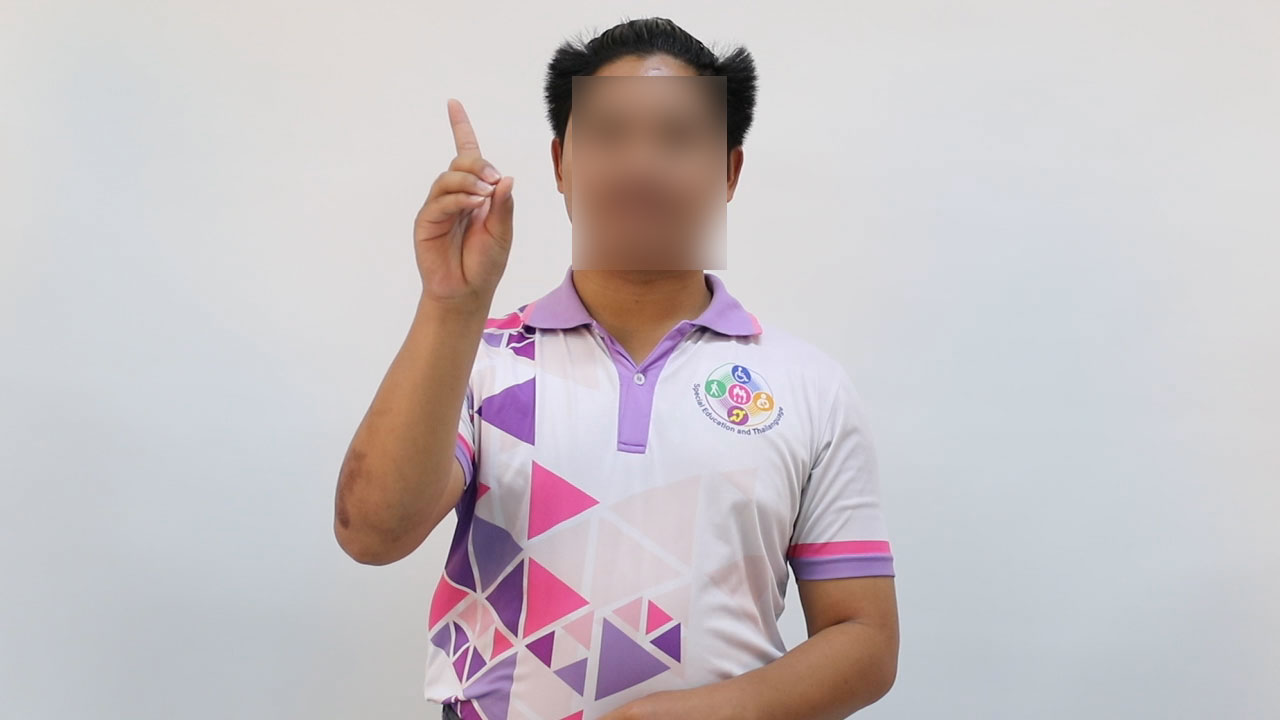dor: (404, 93, 528, 315)
